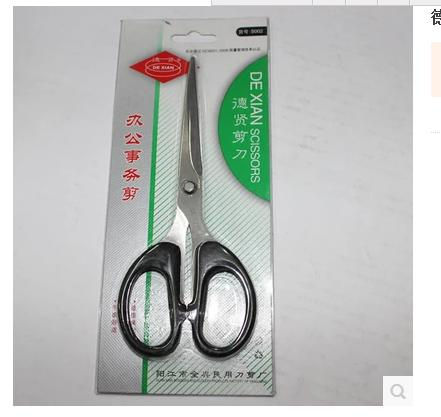scissor: (115, 52, 257, 360)
